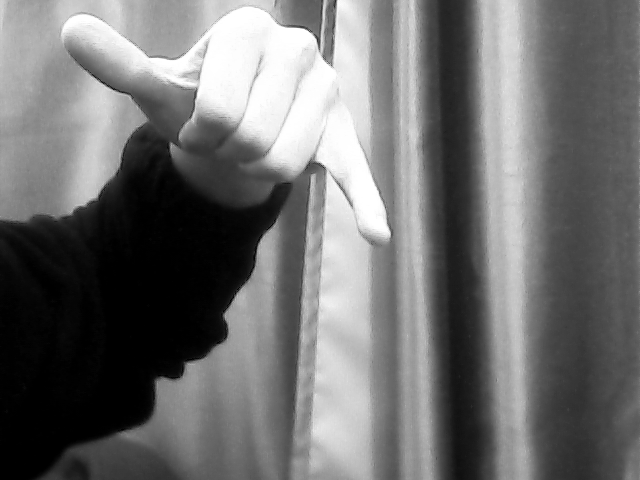aloha: (59, 1, 400, 248)
